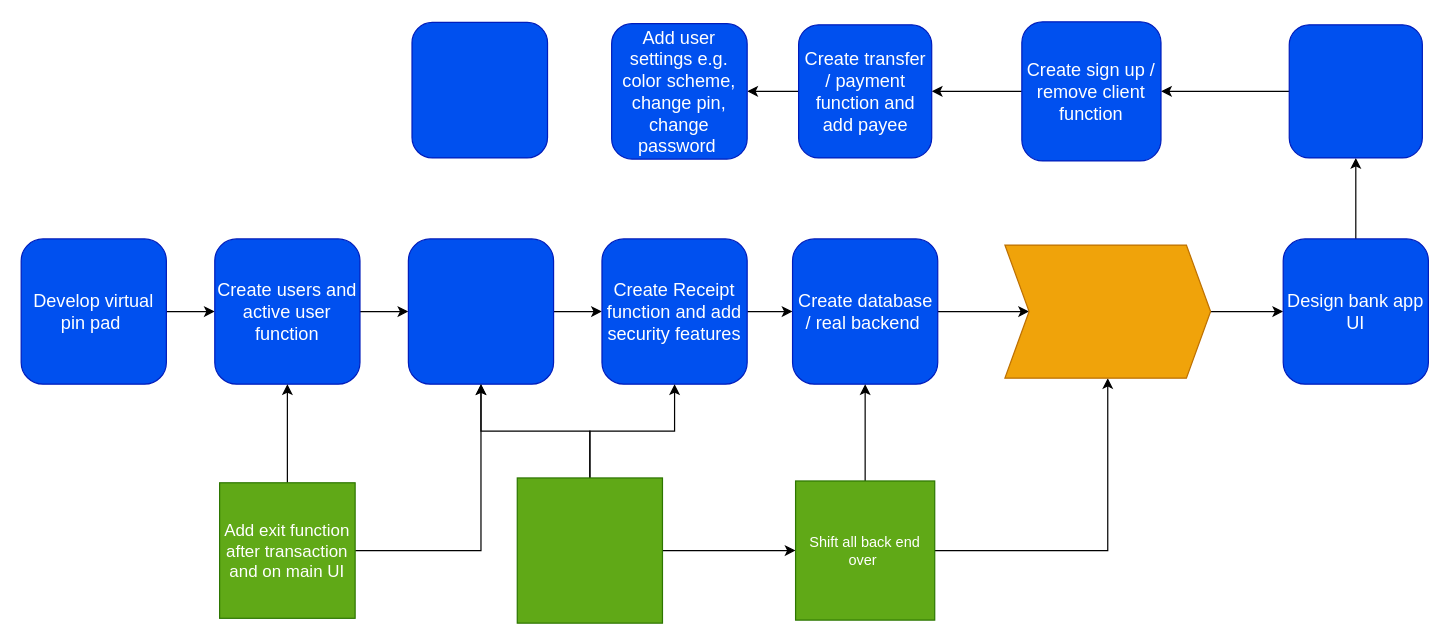
The diagram is 1450 pixels wide and 644 high, and some of its shapes have lost their labels. The centre of each missing label's shape, as x and y in pixels:
Create financial functions e.g. deposit, withdraw, available funds, logs: (x=480, y=311)
Finalize security features: (x=479, y=89)
Implement existing features from ATM: (x=1355, y=91)
implement local storage: (x=589, y=550)
WEB APP BUILD: (x=1107, y=311)
